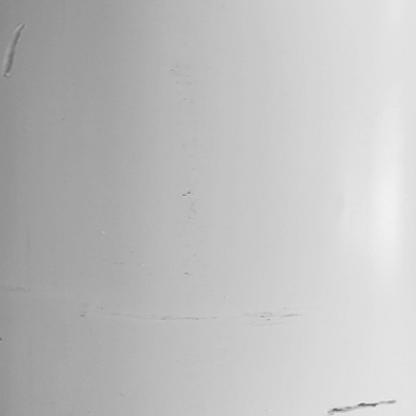fengxi: (324, 401, 401, 413)
sunshang: (5, 22, 26, 75)
